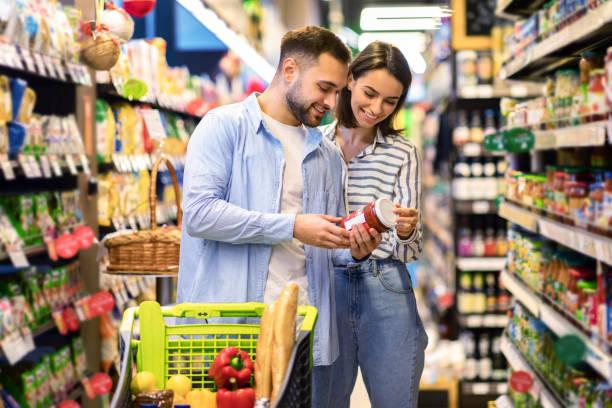Cart: (111, 302, 263, 407), (275, 306, 316, 407)
Person: (177, 26, 381, 391)
article: (208, 346, 253, 388), (340, 198, 395, 232), (564, 269, 580, 314), (20, 196, 35, 234)
cage: (106, 156, 181, 273)
